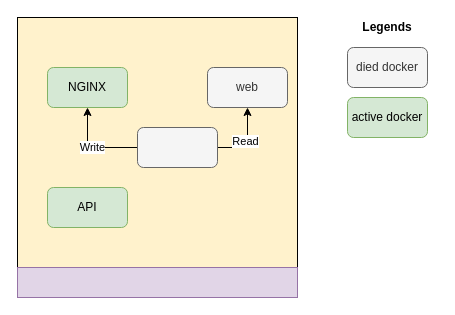
Image size: 455x315. Some labels were removed from this diagram. The shapes that lost their labels are listed below. From the top down, each one's centre as x and y in pixels, then its label:
At pixel 177 147: "ui-env-parser".
At pixel 157 282: "Docker Host".
